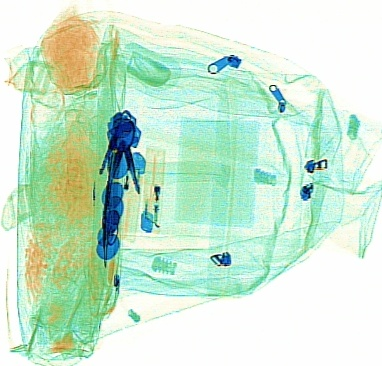lighter: (115, 152, 145, 243), (139, 144, 166, 234)
